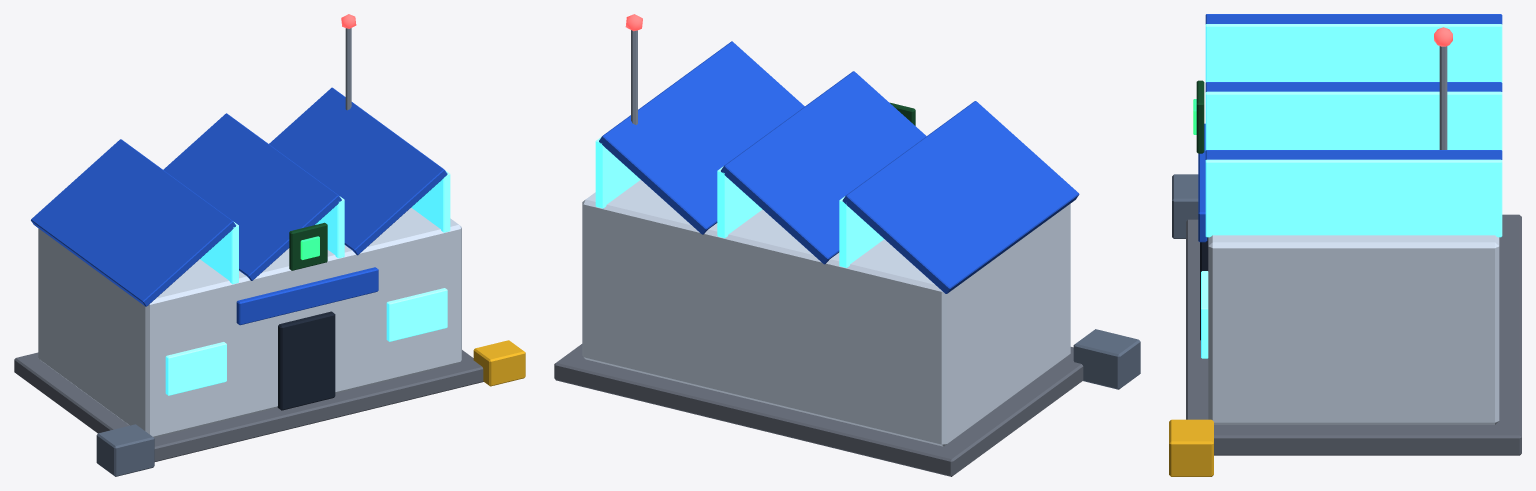
Rendered from factory.glb.
The picture shows the model from 3 angles, left to right: view 1: azimuth 30°, elevation 25°; view 2: azimuth 150°, elevation 25°; view 3: azimuth 270°, elevation 25°; orthographic projection. The views are drawn at different scales.
Parts seen in each view (by area): view 1: g_m_2563eb, g_m_dbeafe, g_m_6b7280, g_m_a5f3fc_e, g_m_1e293b, g_m_64748b, g_m_fbbf24, g_m_14532d, g_m_94a3b8; view 2: g_m_dbeafe, g_m_2563eb, g_m_6b7280, g_m_a5f3fc_e, g_m_64748b, g_m_94a3b8; view 3: g_m_a5f3fc_e, g_m_dbeafe, g_m_6b7280, g_m_2563eb, g_m_fbbf24, g_m_64748b, g_m_94a3b8, g_m_14532d.
Part boxes in pixels (x1=…): g_m_2563eb: x1=31, y1=87, x2=447, y2=325; g_m_dbeafe: x1=38, y1=207, x2=461, y2=437; g_m_6b7280: x1=14, y1=350, x2=483, y2=461; g_m_a5f3fc_e: x1=165, y1=170, x2=450, y2=395; g_m_1e293b: x1=277, y1=311, x2=335, y2=410; g_m_64748b: x1=96, y1=424, x2=154, y2=476; g_m_fbbf24: x1=473, y1=340, x2=525, y2=386; g_m_14532d: x1=289, y1=222, x2=327, y2=270; g_m_94a3b8: x1=345, y1=28, x2=351, y2=110; g_m_dbeafe: x1=582, y1=180, x2=1070, y2=446; g_m_2563eb: x1=599, y1=41, x2=1079, y2=293; g_m_6b7280: x1=554, y1=344, x2=1083, y2=476; g_m_a5f3fc_e: x1=595, y1=136, x2=883, y2=267; g_m_64748b: x1=1073, y1=329, x2=1140, y2=389; g_m_94a3b8: x1=631, y1=30, x2=637, y2=124; g_m_a5f3fc_e: x1=1201, y1=24, x2=1502, y2=358; g_m_dbeafe: x1=1208, y1=235, x2=1499, y2=424; g_m_6b7280: x1=1186, y1=214, x2=1521, y2=455; g_m_2563eb: x1=1198, y1=14, x2=1502, y2=242; g_m_fbbf24: x1=1169, y1=419, x2=1213, y2=476; g_m_64748b: x1=1172, y1=174, x2=1198, y2=238; g_m_94a3b8: x1=1439, y1=46, x2=1447, y2=149; g_m_14532d: x1=1196, y1=80, x2=1204, y2=153.
Size of the model in its own units: 11.15 by 7.95 by 6.3.
